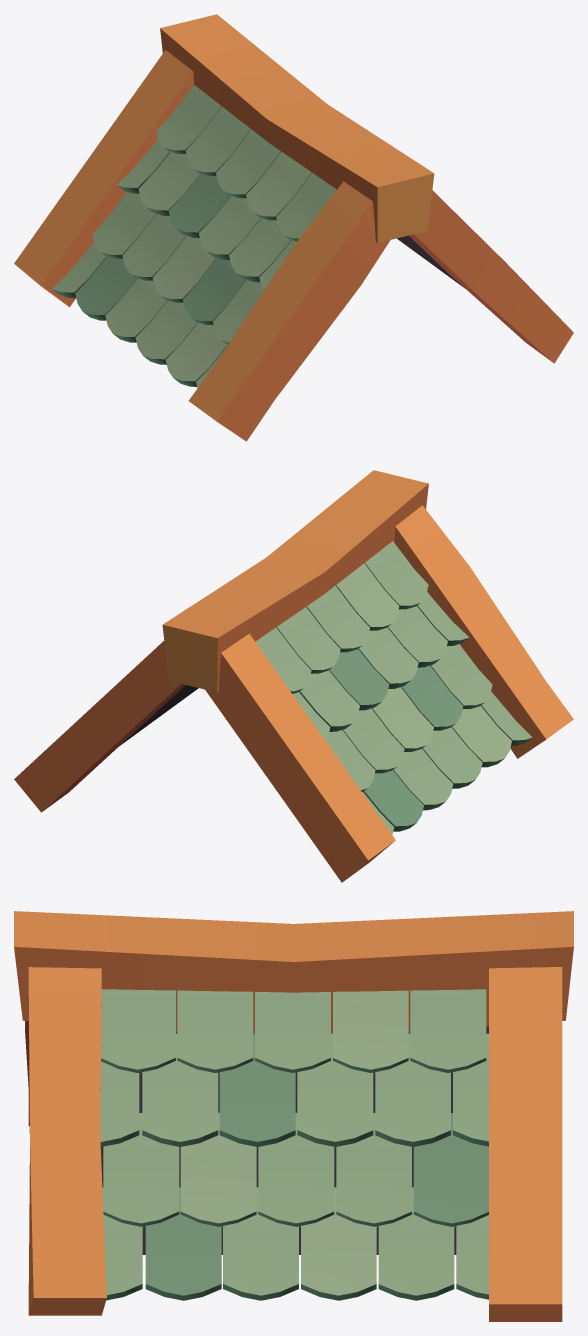
File: Roof01_Green_Wood.glb
The picture shows the model from 3 angles, top to bottom: view 1: azimuth 30°, elevation 25°; view 2: azimuth 150°, elevation 25°; view 3: azimuth 270°, elevation 25°; orthographic projection. The views are drawn at different scales.
Parts seen in each view (by area): view 1: Roof01_Green_Wood; view 2: Roof01_Green_Wood; view 3: Roof01_Green_Wood.
Boxes of the visible parts, x1=… form: Roof01_Green_Wood: x1=14, y1=14, x2=573, y2=441; Roof01_Green_Wood: x1=14, y1=470, x2=573, y2=882; Roof01_Green_Wood: x1=14, y1=911, x2=573, y2=1321.
Bounding box in the file's own units: 2.41 × 1.43 × 2.46.
1 material, 1 textured.
